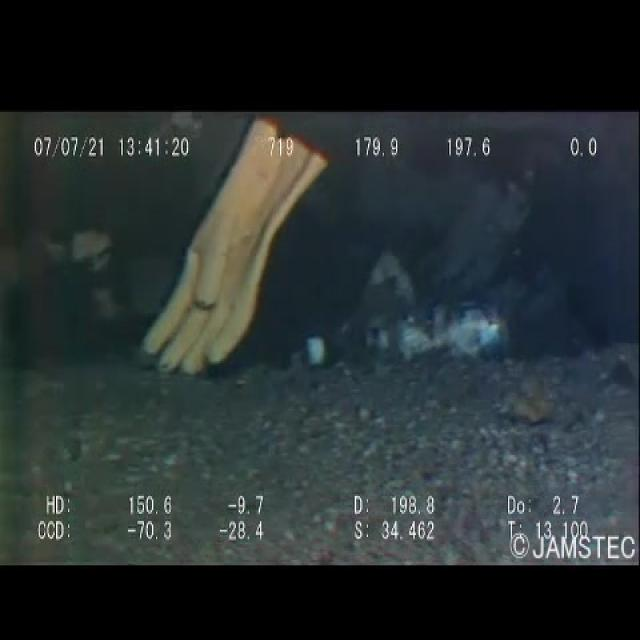plastic: (295, 284, 365, 380)
